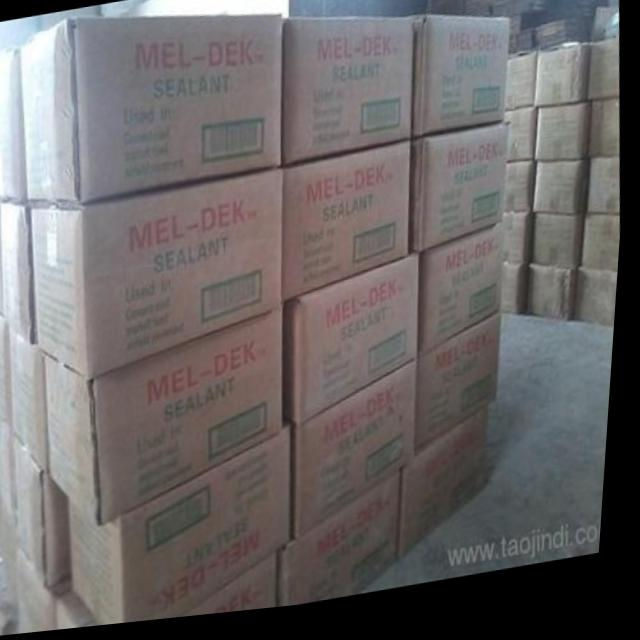box: (33, 172, 289, 380), (50, 312, 289, 530), (19, 18, 284, 205), (73, 426, 299, 628), (287, 261, 423, 430), (294, 372, 422, 548), (286, 146, 412, 313), (283, 21, 415, 174), (284, 479, 407, 613), (404, 417, 496, 571), (412, 133, 511, 260), (421, 320, 504, 467), (413, 24, 509, 145), (422, 233, 506, 367), (23, 435, 77, 587), (193, 557, 284, 622), (12, 327, 52, 474), (23, 530, 78, 635), (3, 201, 41, 348), (0, 44, 32, 202), (534, 57, 593, 116), (535, 113, 593, 171), (0, 411, 25, 532), (537, 170, 590, 226), (536, 224, 587, 282), (529, 275, 581, 331), (578, 281, 622, 338), (584, 226, 623, 285), (587, 169, 622, 230), (64, 588, 107, 632), (589, 52, 620, 112), (507, 62, 538, 120), (0, 316, 16, 428), (505, 220, 537, 276), (590, 113, 621, 170), (506, 170, 538, 223), (506, 122, 539, 173), (503, 271, 532, 326), (0, 200, 6, 318)
